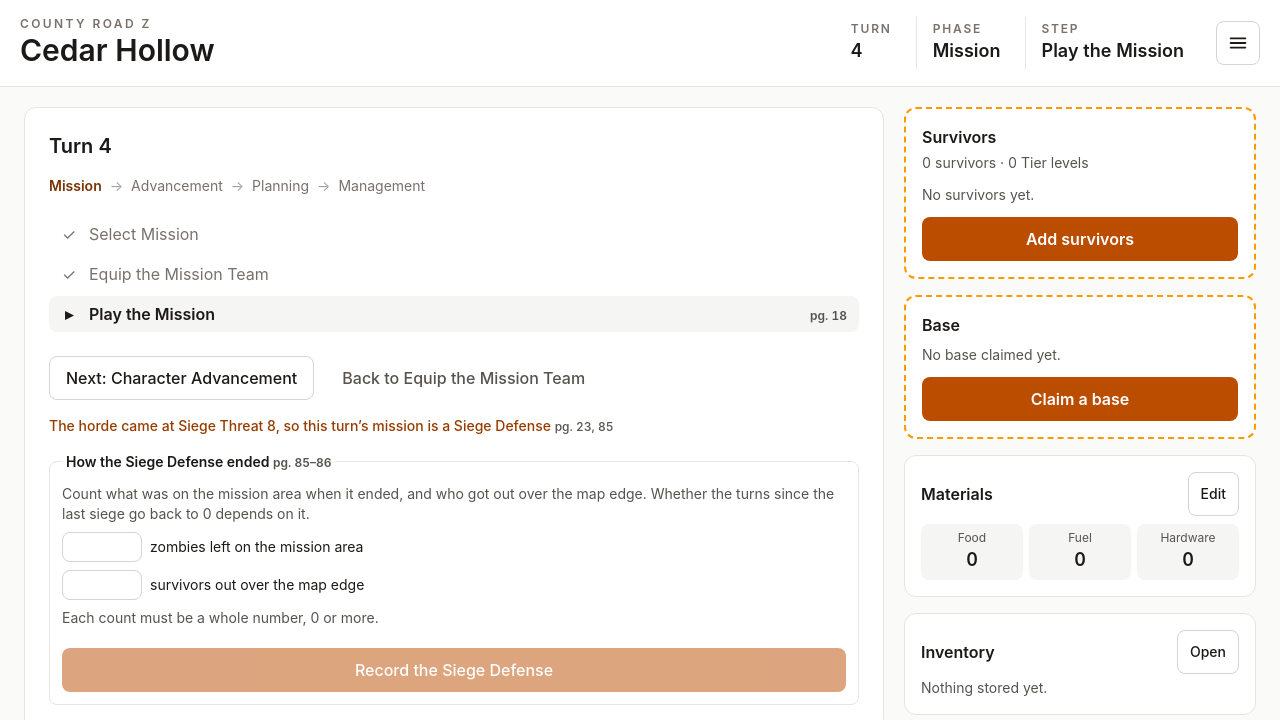
the outcome of a Siege Defense (pg. 86) › says what a clean siege does, and keeps saying it once recorded
Type "0" into the number field labelled "zombies left on the mission area" at point(102, 546), box [62, 532, 142, 562]
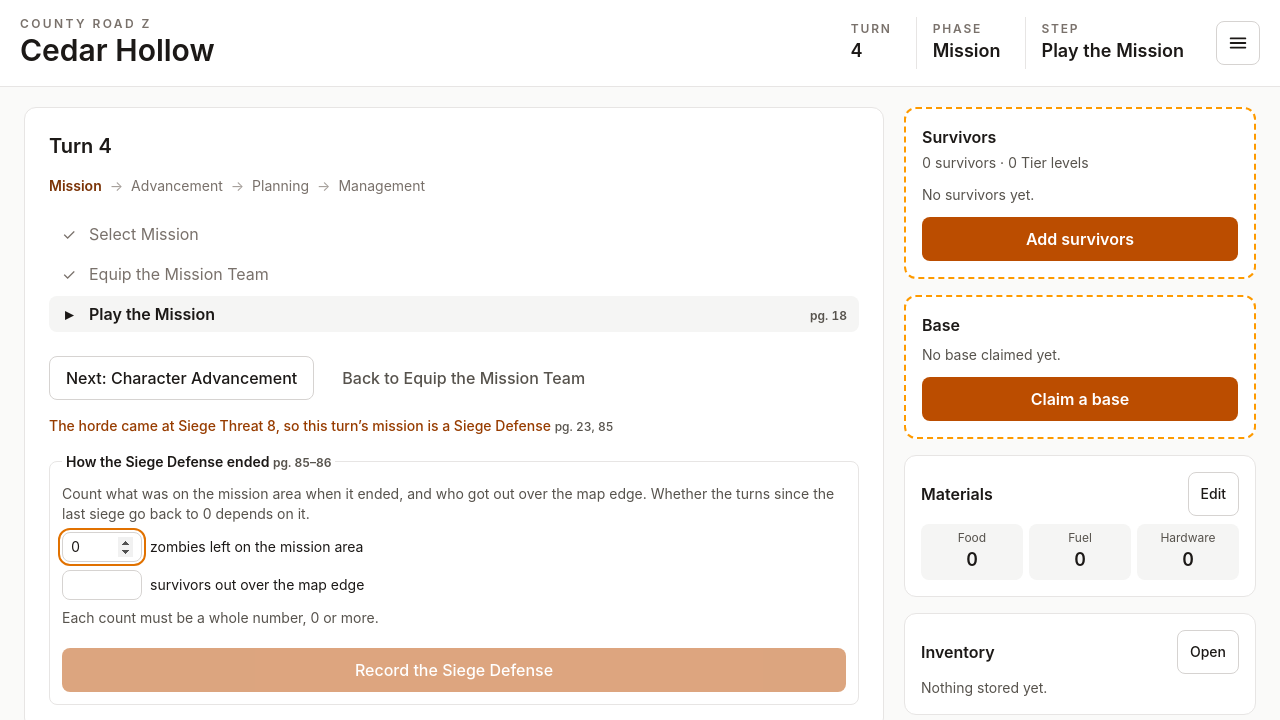
Type "2" into the number field labelled "survivors out over the map edge" at point(102, 584), box [62, 570, 142, 600]
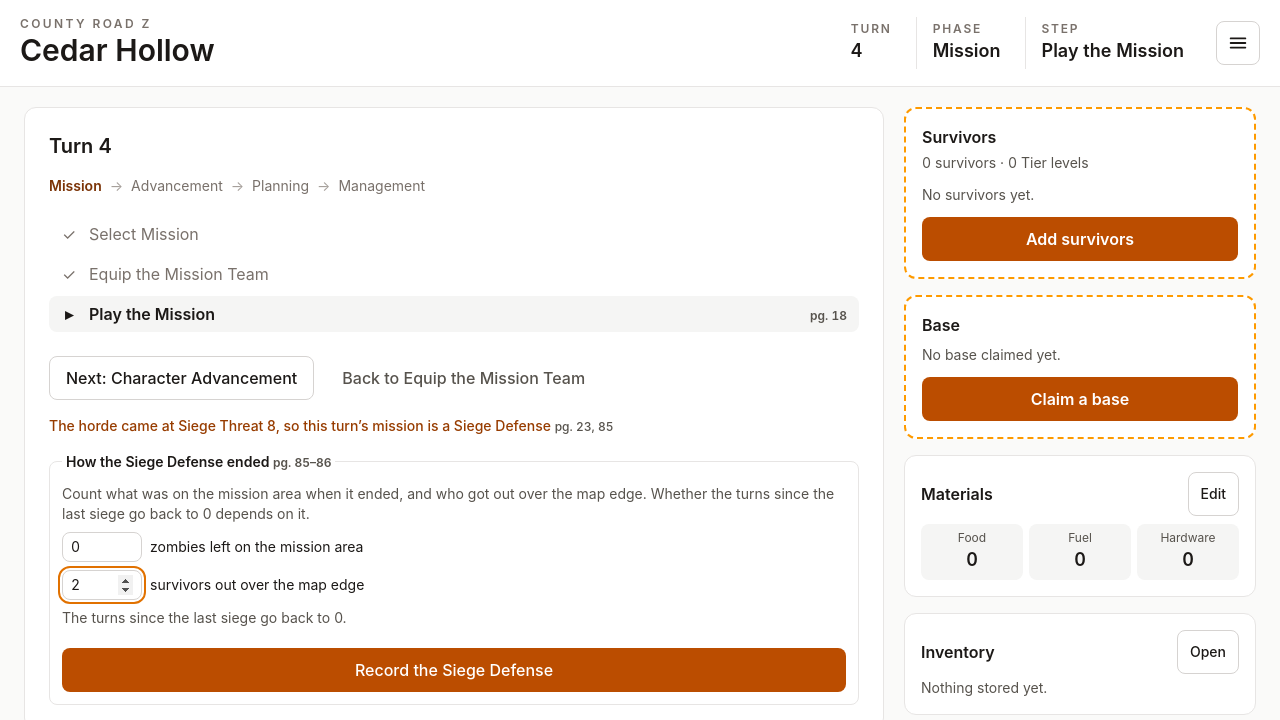
Expected: the text "go back to 0" is shown, [62, 484, 834, 522]
Click the button "Record the Siege Defense" at point(454, 670), box [62, 648, 846, 692]
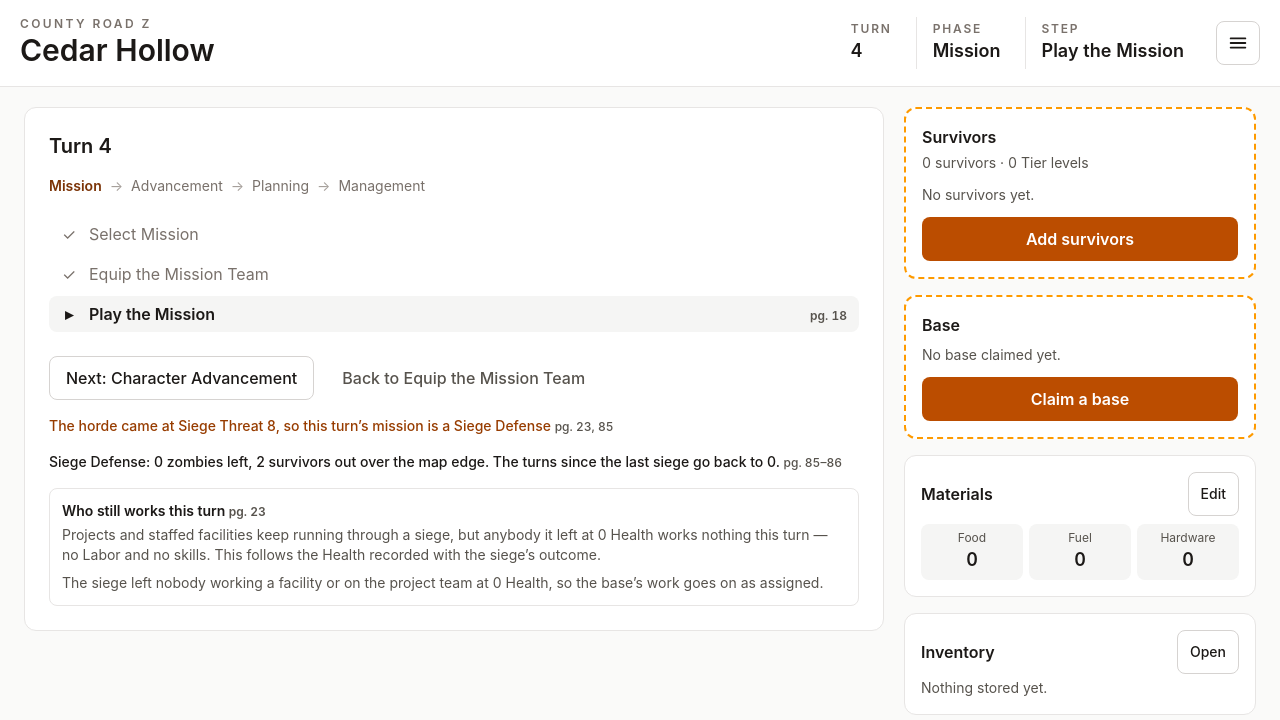
Expected: the button "record" is not shown
Now the text "Siege Defense: 0 zombies left, 2 survivors out" is shown, box [49, 452, 780, 470]
